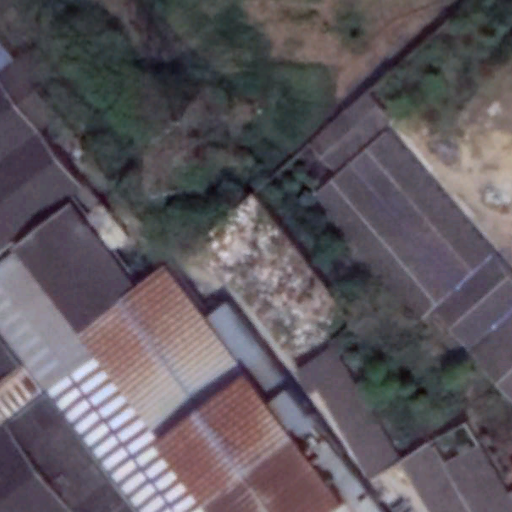msw: (211, 200, 347, 356)
